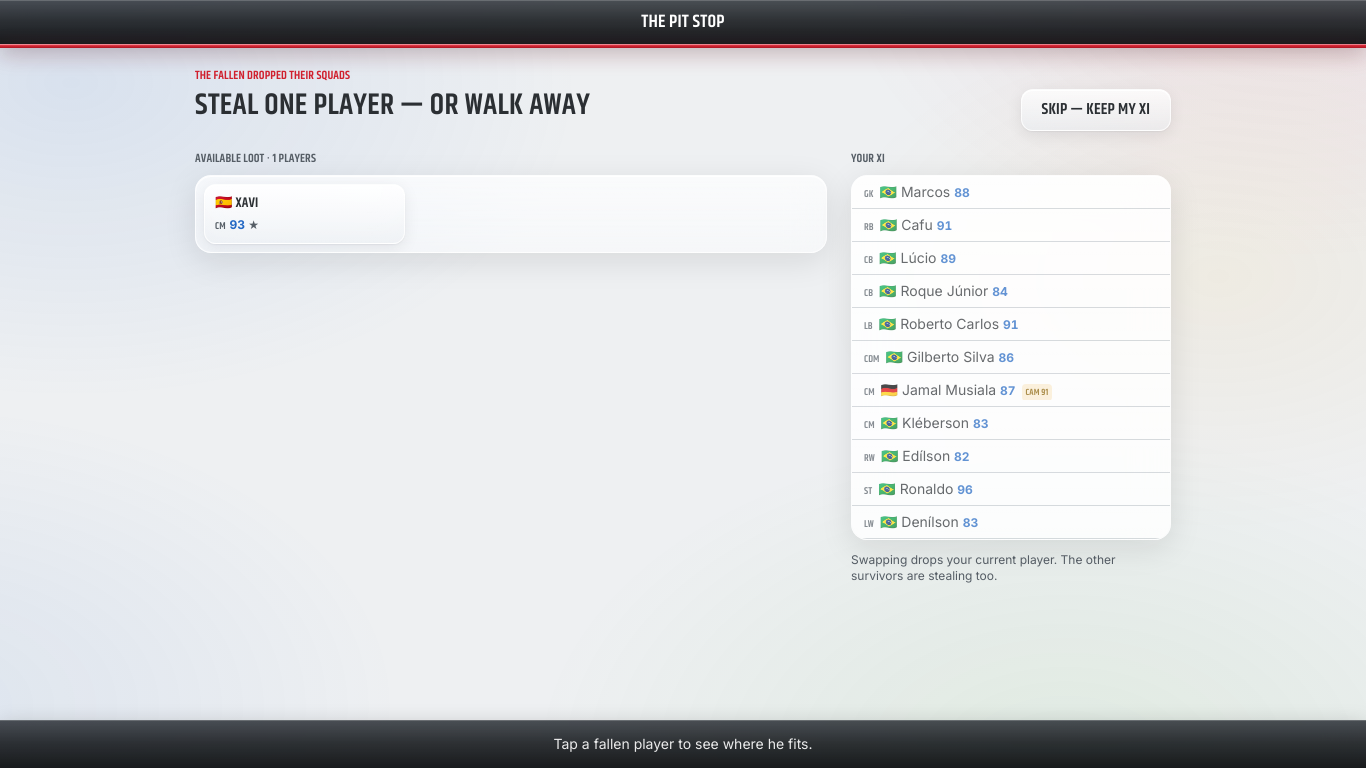
Test case: StealScreen — off-position occupant rows show slot-worth (Lucca: Xavi +6 on Musiala) › shows the occupant worth 87 at CM with a "CAM 91" natural tag, and Xavi nets +6.0
This screenshot has width=1366, height=768.
Expected: the button with test id "xi-slot" shows "Musiala", [852,374,1170,407]
Expected: the button with test id "xi-slot" shows "87", [852,374,1170,407]
Click the button with test id "loot-card" at (304, 214), box [204,184,405,244]
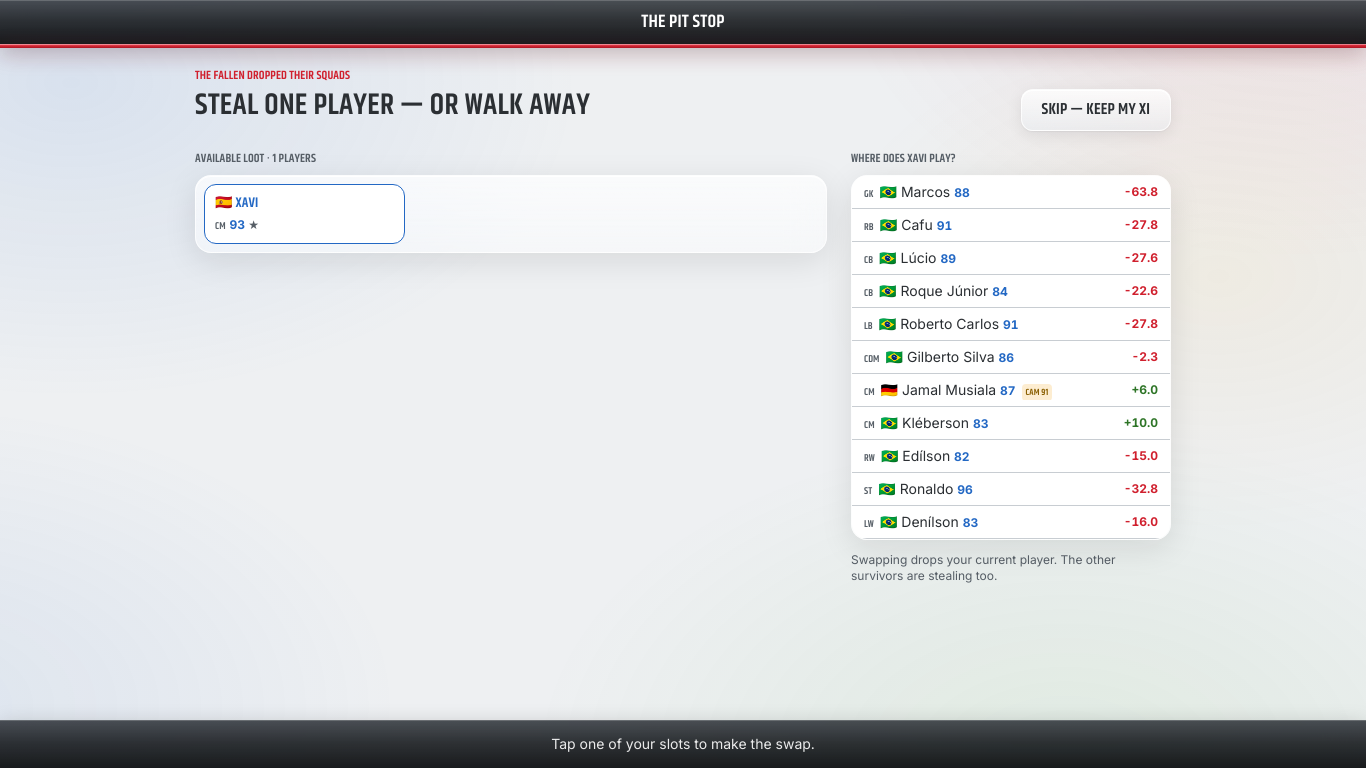
Result: the button with test id "xi-slot" shows "+6.0" at [852,374,1170,407]
